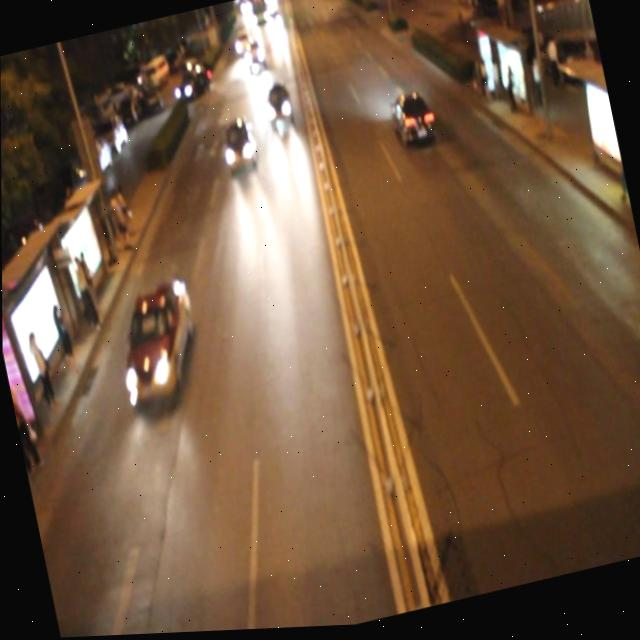car: (107, 276, 206, 412), (386, 87, 437, 154), (216, 117, 261, 174), (260, 81, 296, 133)
